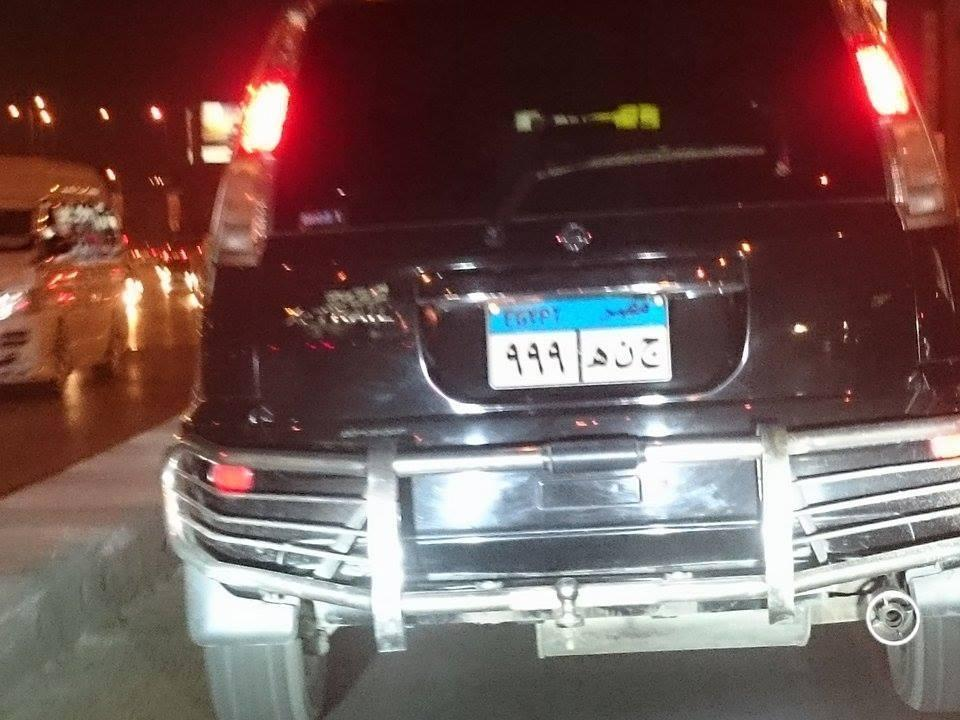9: (525, 340, 545, 375), (504, 341, 524, 376), (547, 339, 567, 373)
Heeh: (585, 343, 610, 369)
License Plate: (478, 289, 676, 393)
Noon: (614, 338, 635, 368)
car: (177, 0, 960, 643), (0, 147, 121, 388)
geem: (639, 335, 661, 368)
